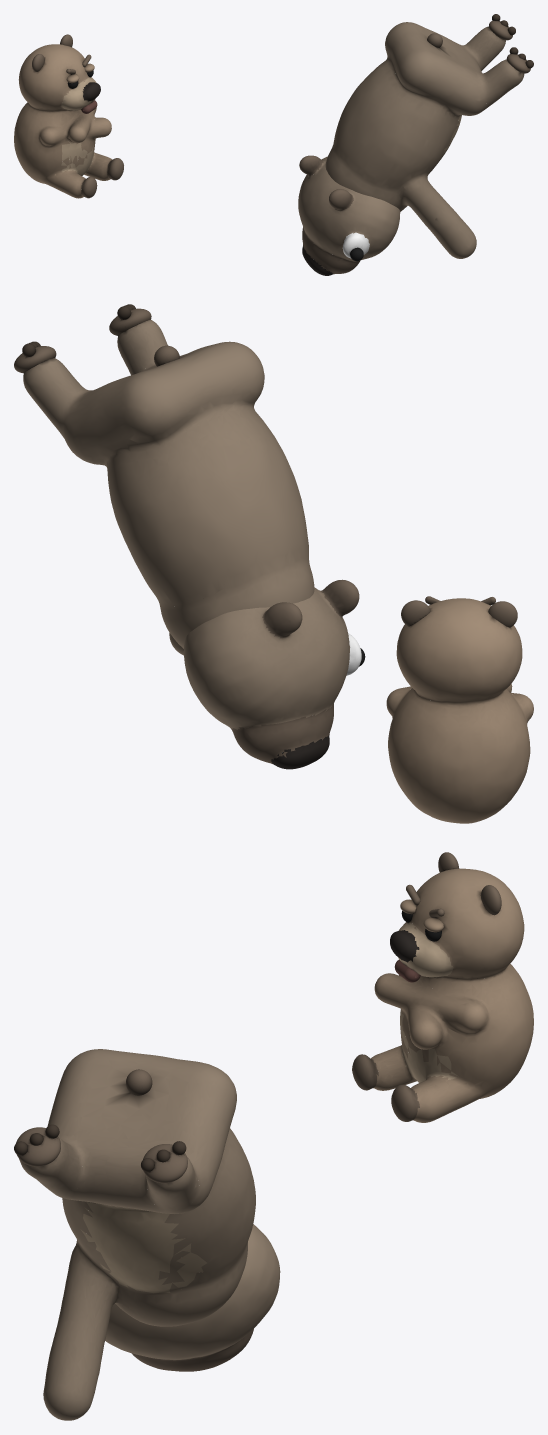
File: stada-ditt-rum.glb
3 views of the same model, one above another, from view 1: azimuth 30°, elevation 25°; view 2: azimuth 150°, elevation 25°; view 3: azimuth 270°, elevation 25° (orthographic). The views are drawn at different scales.
Visible parts, largest first — view 1: mae__r0, filhote__r0, cabeca__r0; view 2: mae__r0, filhote__r0, cabeca__r0, mae__r6, mae__r1; view 3: mae__r0, filhote__r0, cabeca__r0, mae__r1, mae__r6.
Boxes of the visible parts, <box> form: mae__r0: <box>325,22,524,258</box>; filhote__r0: <box>14,44,123,198</box>; cabeca__r0: <box>298,155,400,275</box>; mae__r0: <box>23,319,314,655</box>; filhote__r0: <box>386,598,533,823</box>; cabeca__r0: <box>183,579,361,769</box>; mae__r6: <box>14,346,56,373</box>; mae__r1: <box>109,308,151,335</box>; mae__r0: <box>19,1049,255,1420</box>; filhote__r0: <box>352,868,533,1122</box>; cabeca__r0: <box>105,1224,280,1371</box>; mae__r1: <box>16,1127,60,1166</box>; mae__r6: <box>143,1144,187,1183</box>.
Bounding box in the file's own units: 3.46 × 1.85 × 2.35.
